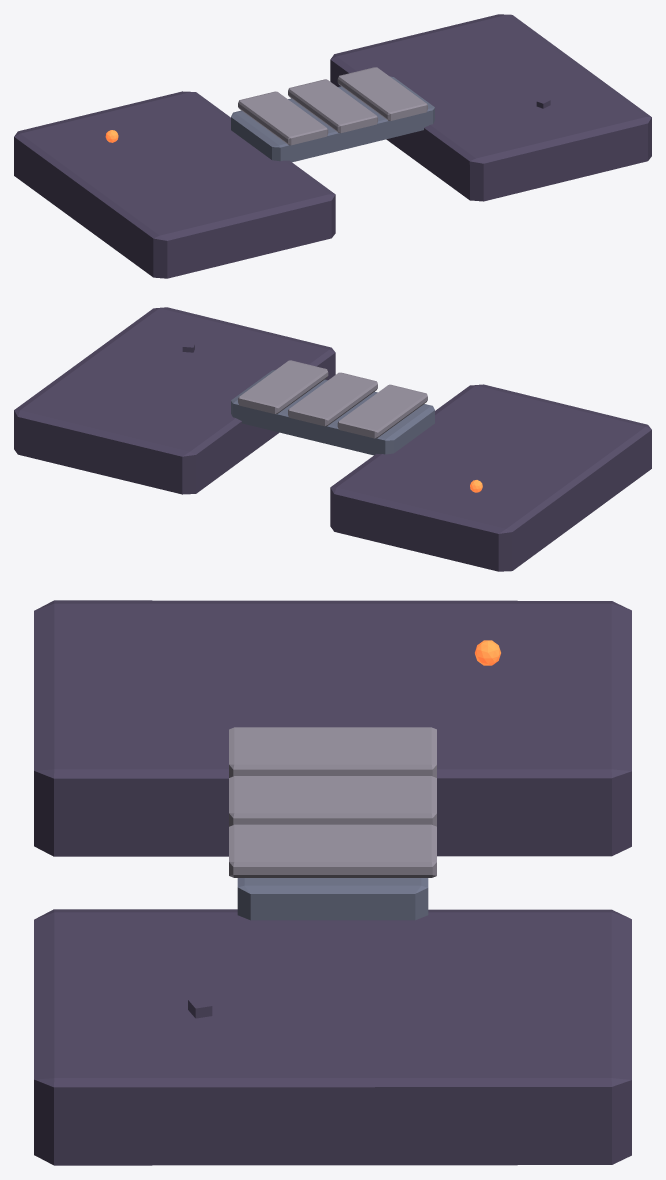
Rendered from cinder-span.glb.
The picture shows the model from 3 angles, top to bottom: view 1: azimuth 30°, elevation 25°; view 2: azimuth 150°, elevation 25°; view 3: azimuth 270°, elevation 25°; orthographic projection. The views are drawn at different scales.
Parts seen in each view (by area): view 1: cinder-left-cliff, cinder-right-cliff, cinder-bridge, cinder-segment-0, cinder-segment-2, cinder-segment-1; view 2: cinder-left-cliff, cinder-right-cliff, cinder-bridge, cinder-segment-0, cinder-segment-2, cinder-segment-1; view 3: cinder-right-cliff, cinder-left-cliff, cinder-segment-2, cinder-segment-0, cinder-segment-1, cinder-bridge.
Part boxes in pixels (x1=…): cinder-left-cliff: x1=14, y1=91, x2=335, y2=278; cinder-right-cliff: x1=330, y1=14, x2=651, y2=201; cinder-bridge: x1=231, y1=76, x2=434, y2=162; cinder-segment-0: x1=238, y1=91, x2=328, y2=145; cinder-segment-2: x1=337, y1=67, x2=427, y2=120; cinder-segment-1: x1=288, y1=79, x2=377, y2=133; cinder-left-cliff: x1=330, y1=384, x2=651, y2=571; cinder-right-cliff: x1=14, y1=307, x2=335, y2=494; cinder-bridge: x1=231, y1=369, x2=434, y2=455; cinder-segment-0: x1=337, y1=384, x2=427, y2=438; cinder-segment-2: x1=238, y1=360, x2=328, y2=414; cinder-segment-1: x1=288, y1=372, x2=377, y2=426; cinder-right-cliff: x1=34, y1=909, x2=631, y2=1165; cinder-left-cliff: x1=34, y1=600, x2=631, y2=856; cinder-segment-2: x1=229, y1=824, x2=436, y2=877; cinder-segment-0: x1=229, y1=727, x2=436, y2=777; cinder-segment-1: x1=229, y1=776, x2=436, y2=826; cinder-bridge: x1=237, y1=878, x2=428, y2=920.
Bounding box in the file's own units: 5.2 × 0.65 × 2.7.
